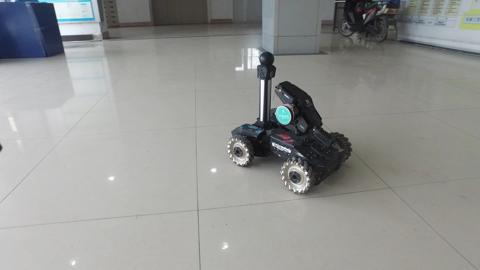chariot: (225, 50, 354, 194)
